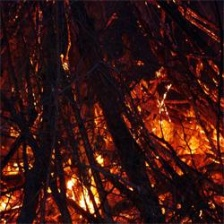fire: (162, 121, 212, 154), (61, 169, 100, 211), (1, 179, 18, 213)
